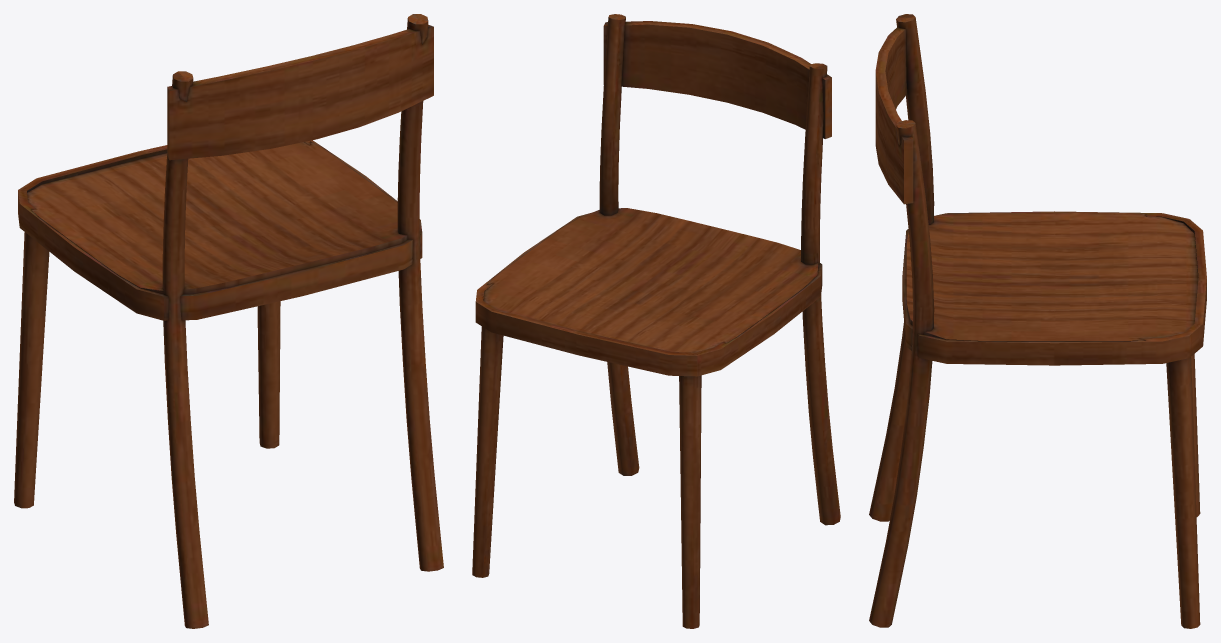
The model's file is chair_vienna_lod1_web.glb.
The picture shows the model from 3 angles, left to right: view 1: azimuth 30°, elevation 25°; view 2: azimuth 150°, elevation 25°; view 3: azimuth 270°, elevation 25°; orthographic projection. The views are drawn at different scales.
Parts seen in each view (by area): view 1: ChairVienna_Mesh; view 2: ChairVienna_Mesh; view 3: ChairVienna_Mesh.
Part boxes in pixels (x1,y1,x2,y2): ChairVienna_Mesh: (14,14,443,628); ChairVienna_Mesh: (472,14,840,628); ChairVienna_Mesh: (869,14,1206,628).
Bounding box in the file's own units: 0.442 × 0.7848 × 0.4792.
Materials: 1 (1 with a texture image).
